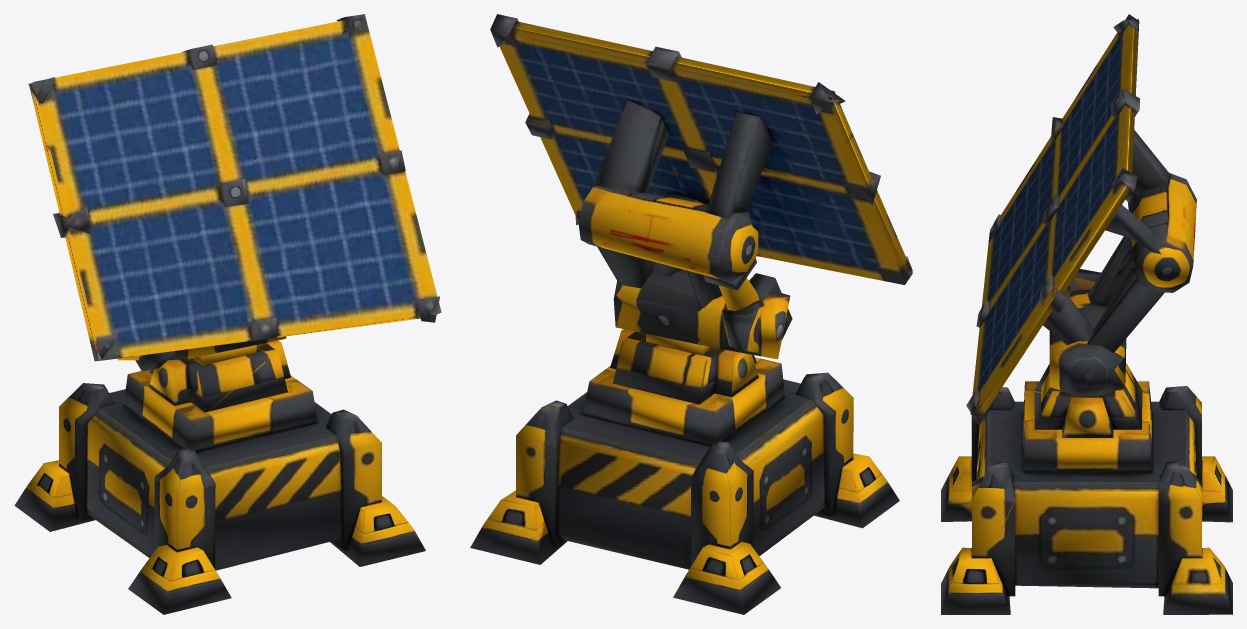
File: solar-panel-2.glb
The picture shows the model from 3 angles, left to right: view 1: azimuth 30°, elevation 25°; view 2: azimuth 150°, elevation 25°; view 3: azimuth 270°, elevation 25°; orthographic projection. The views are drawn at different scales.
Parts seen in each view (by area): view 1: geometry_0; view 2: geometry_0; view 3: geometry_0.
Part boxes in pixels (x1,y1,x2,y2): geometry_0: [14, 14, 441, 614]; geometry_0: [470, 14, 912, 614]; geometry_0: [941, 14, 1232, 614].
Size of the model in its own units: 0.6997 by 0.9507 by 0.5434.
1 material, 1 textured.
